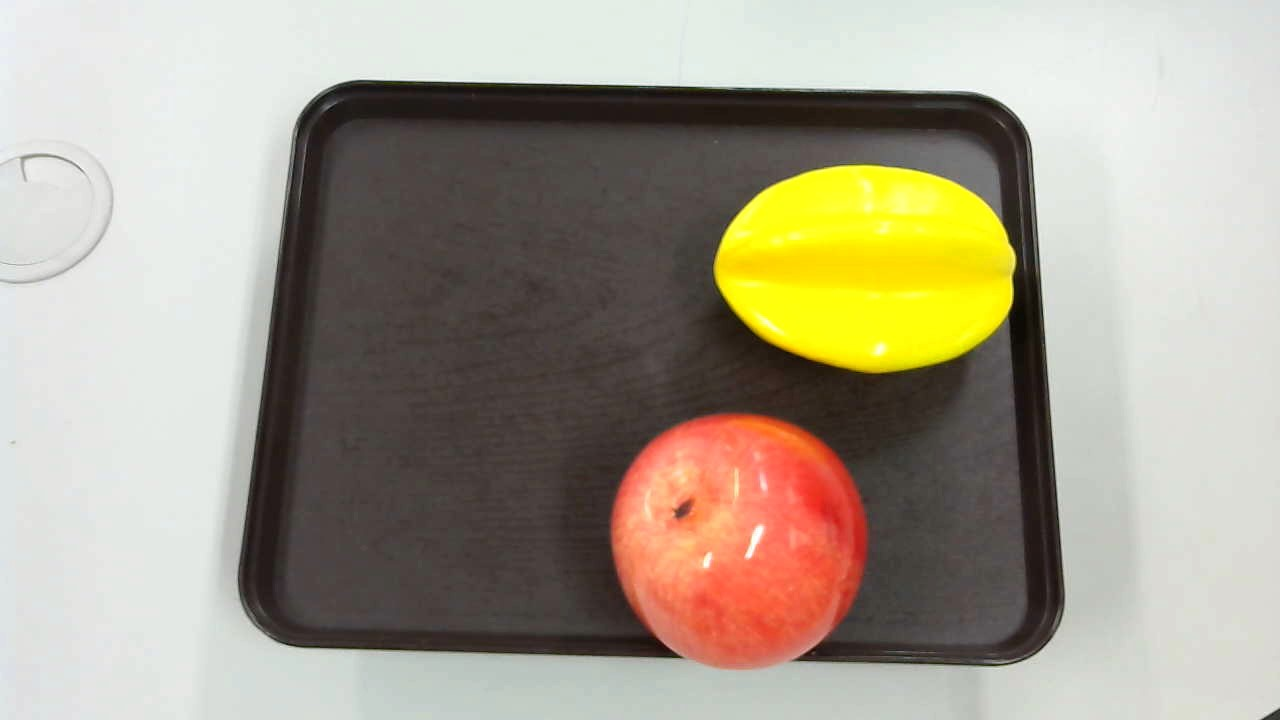red apple: (608, 413, 874, 674)
star fruit: (707, 166, 1021, 380)
